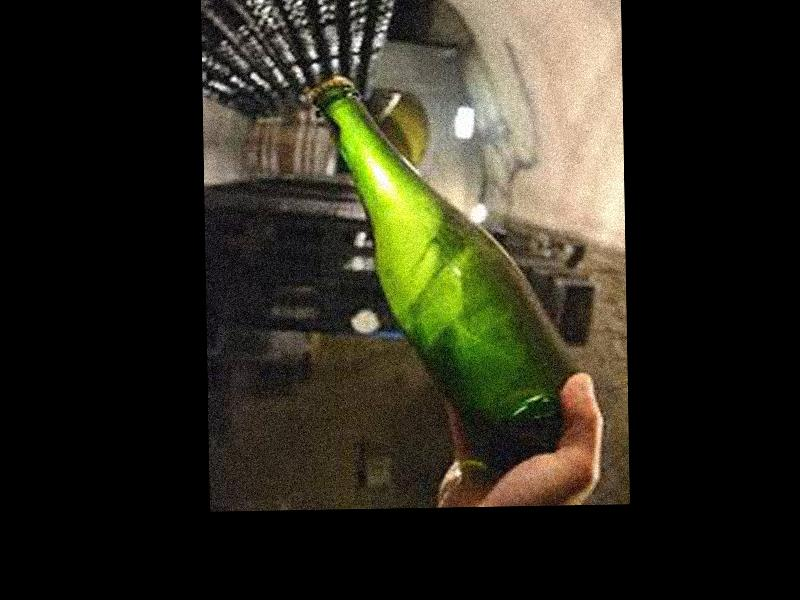Beer: (302, 70, 589, 470)
